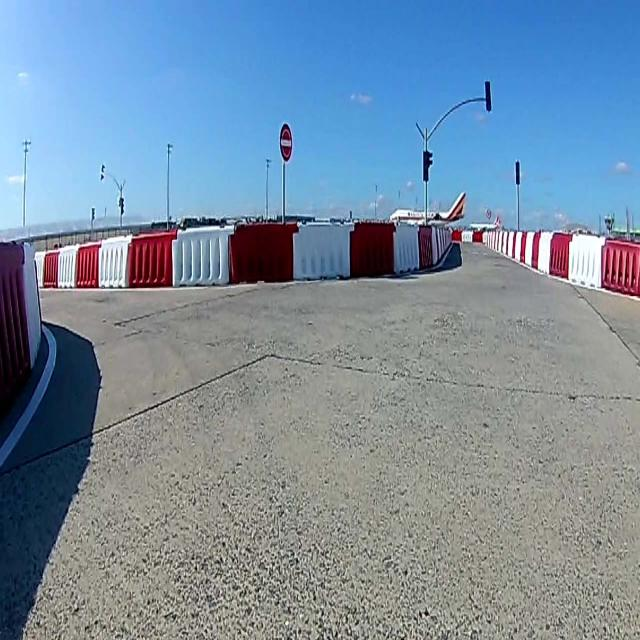girisyok: (279, 122, 292, 158)
